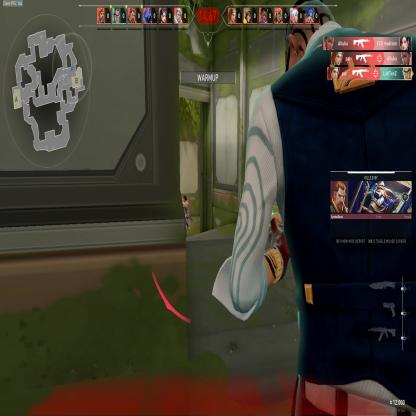enemy: (182, 195, 190, 238)
